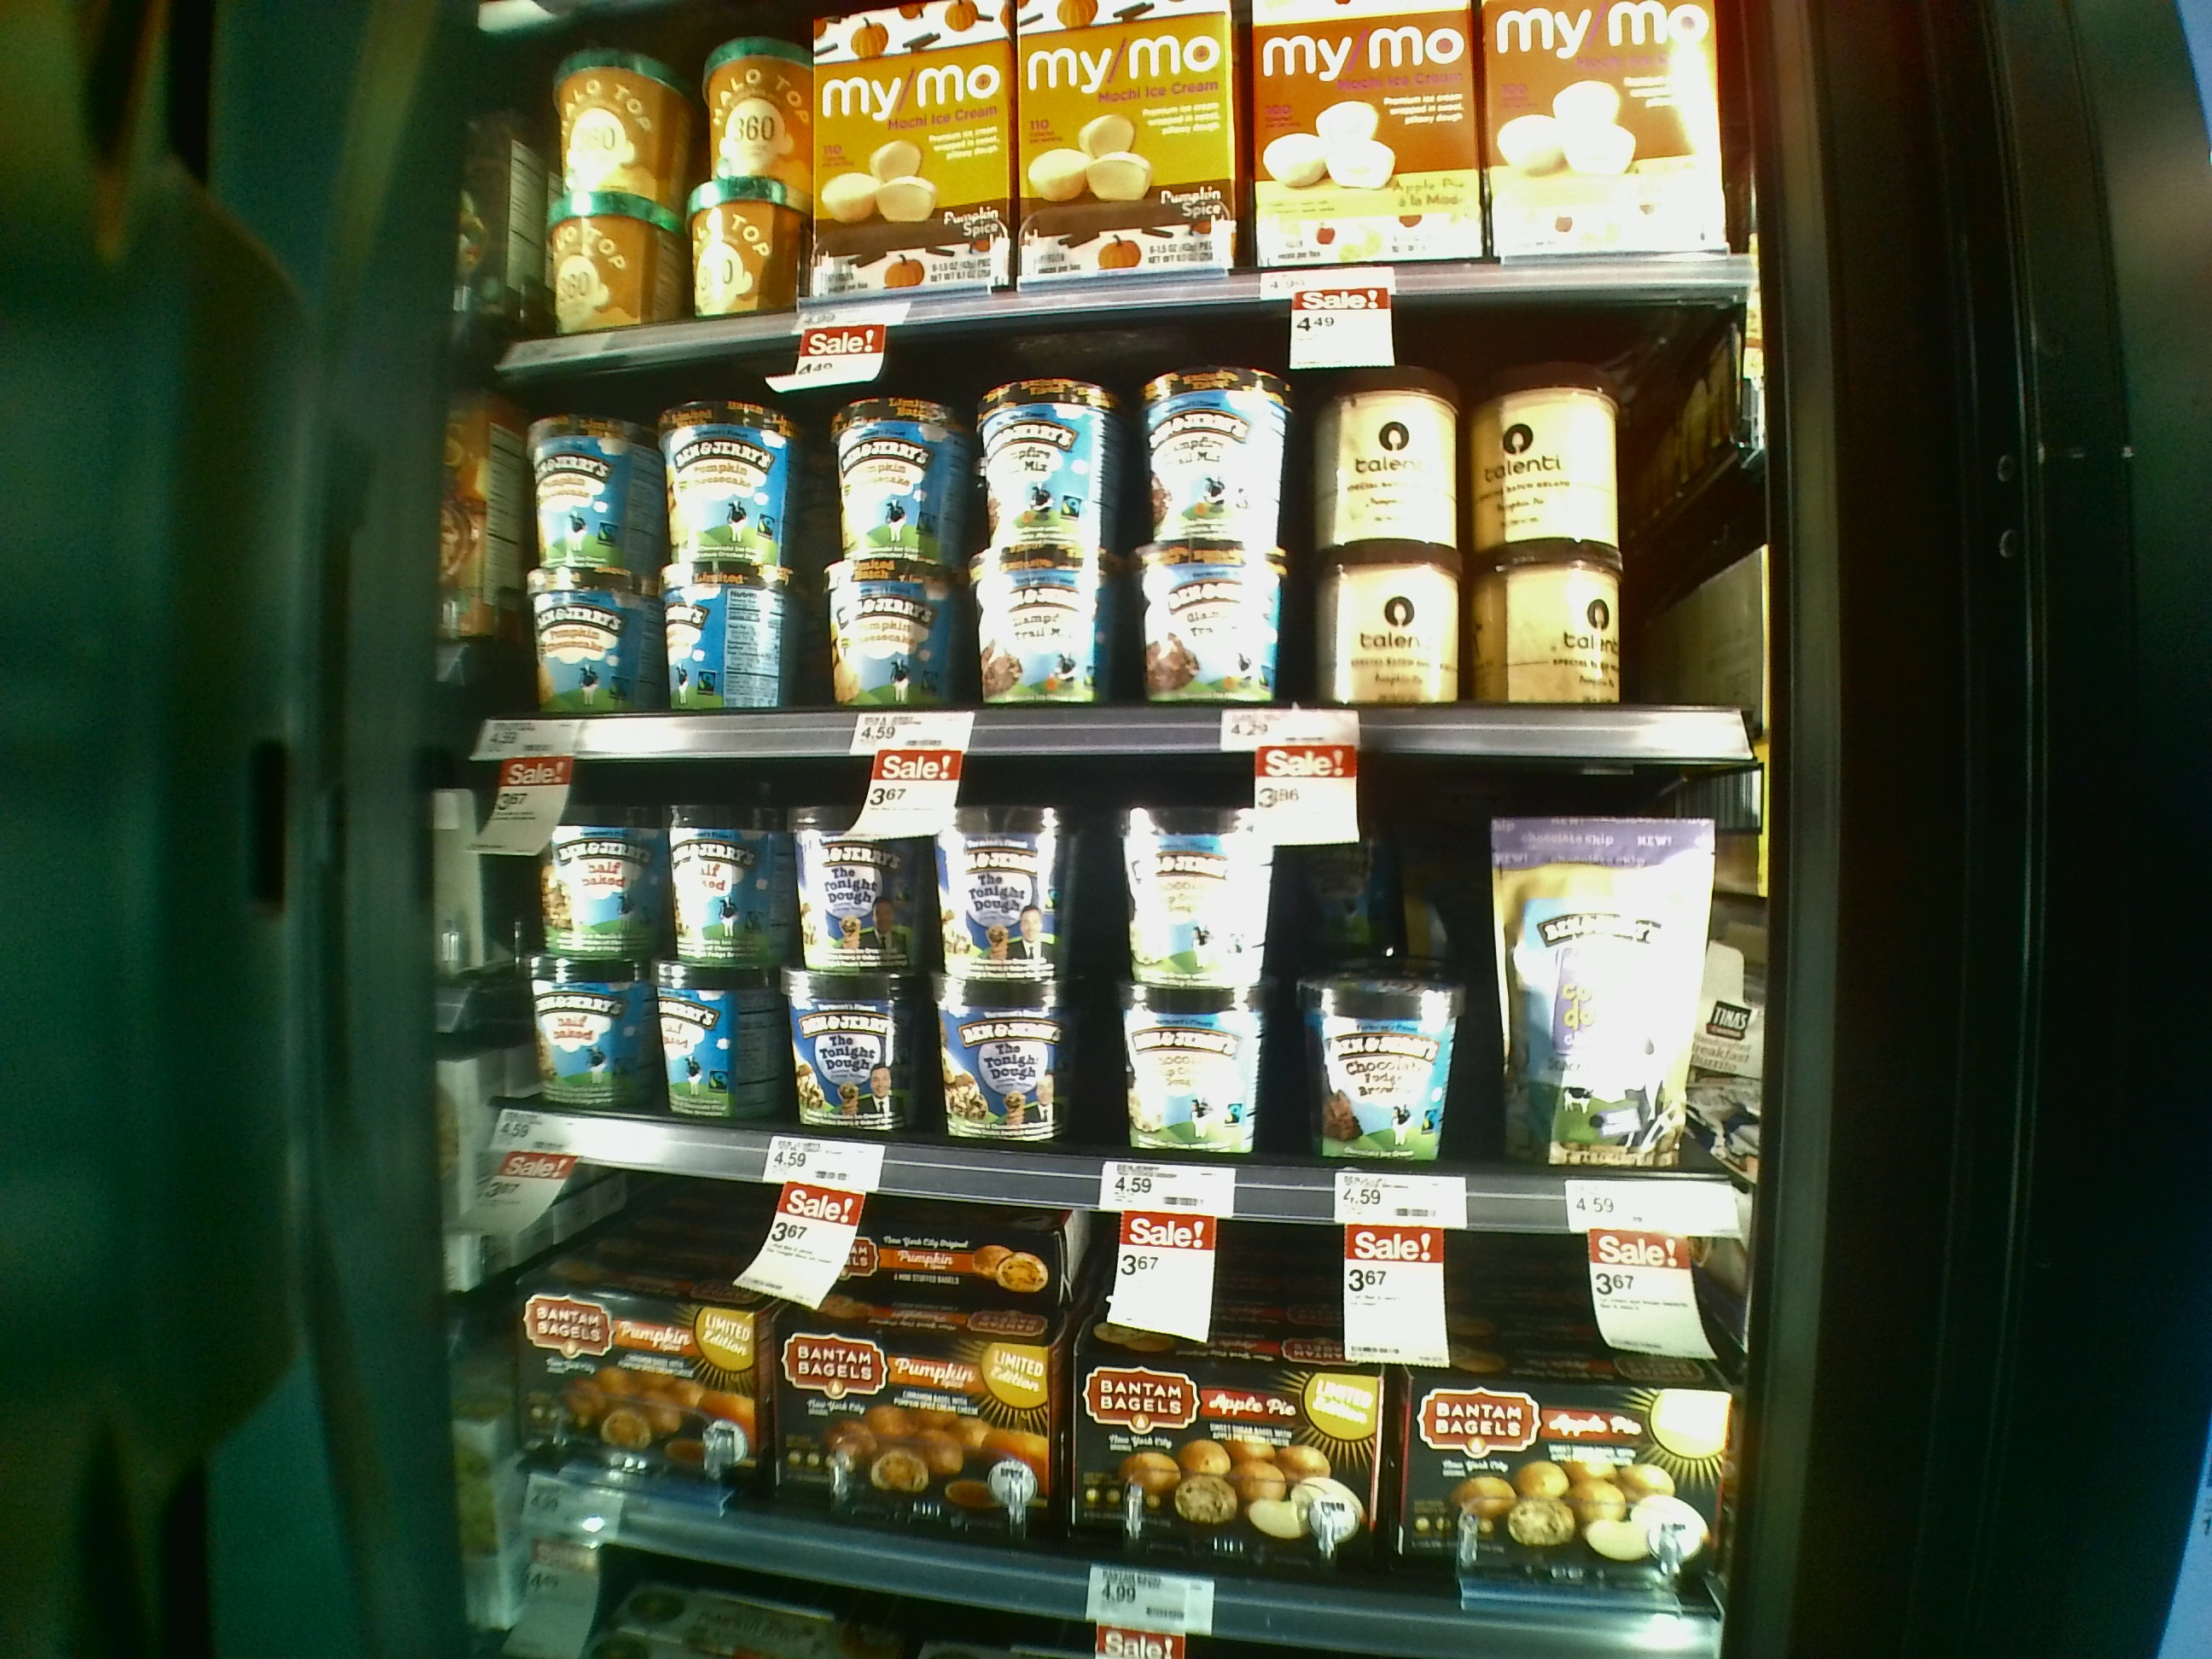shelf: (455, 723, 1773, 1234), (467, 1138, 1724, 1657), (484, 342, 1763, 753)
